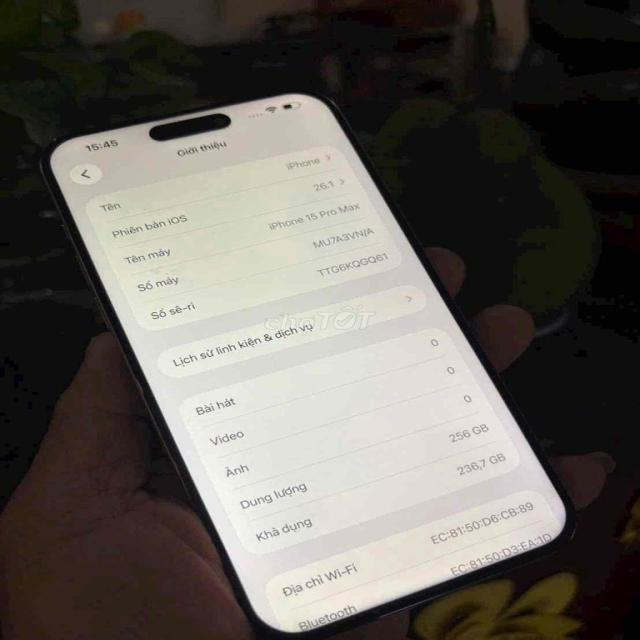scratch: (47, 133, 59, 142)
